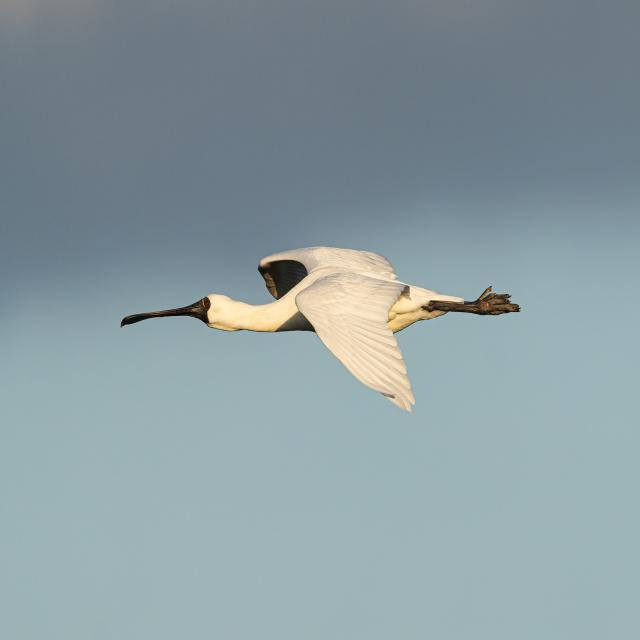Black-faced spoonbill: (122, 247, 519, 410)
